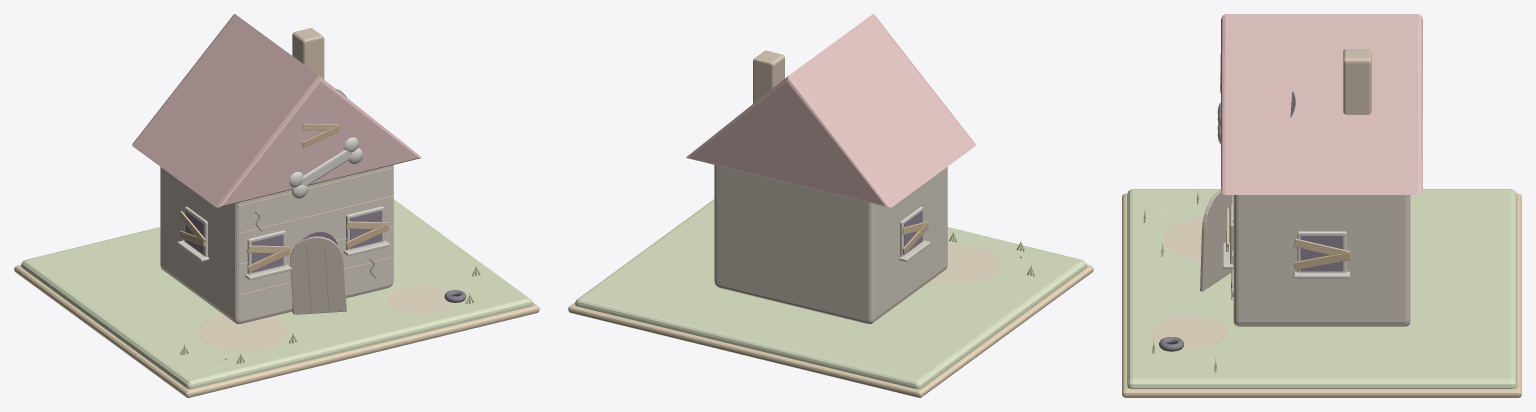
The model's file is building_pets_L01.glb.
3 renders of one model, left to right at view 1: azimuth 30°, elevation 25°; view 2: azimuth 150°, elevation 25°; view 3: azimuth 270°, elevation 25°, orthographic. The views are drawn at different scales.
Visible parts, largest first — view 1: Body, pets_L1; view 2: Body, pets_L1; view 3: Body, pets_L1.
Part boxes in pixels (x1,y1,x2,y2): Body: [132, 14, 421, 324]; pets_L1: [14, 199, 539, 397]; Body: [686, 14, 975, 324]; pets_L1: [568, 199, 1093, 397]; Body: [1200, 14, 1422, 326]; pets_L1: [1122, 189, 1521, 397].
Bounding box in the file's own units: 26.61 × 18.33 × 22.6.
